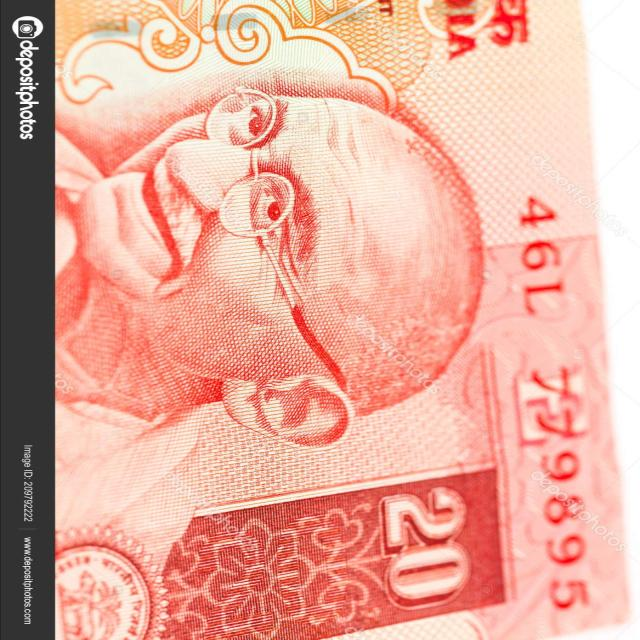20IndianRupees: (53, 0, 631, 640)
